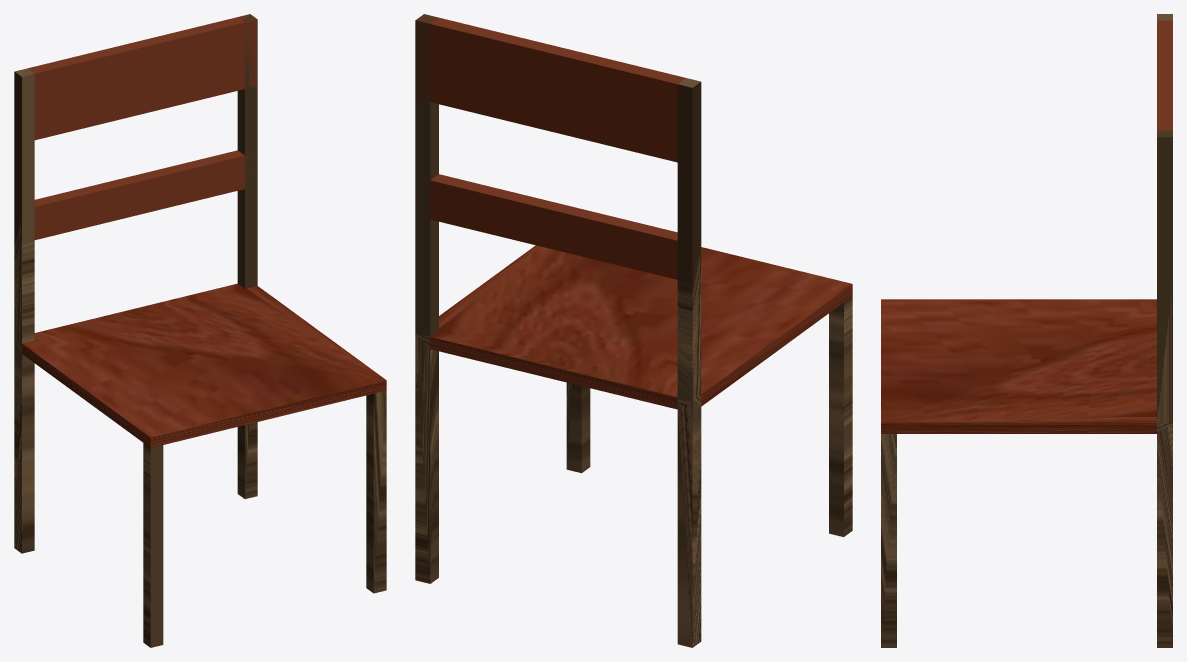
The model's file is Chair2.fbx.
The picture shows the model from 3 angles, left to right: view 1: azimuth 30°, elevation 25°; view 2: azimuth 150°, elevation 25°; view 3: azimuth 270°, elevation 25°; orthographic projection. The views are drawn at different scales.
Visible parts, largest first — view 1: Cube; view 2: Cube; view 3: Cube.
Boxes of the visible parts, box(x1,y1,x2,y2) form: Cube: box(14, 14, 386, 647); Cube: box(415, 14, 852, 647); Cube: box(881, 14, 1172, 647).
Bounding box in the file's own units: 370 × 716 × 370.
